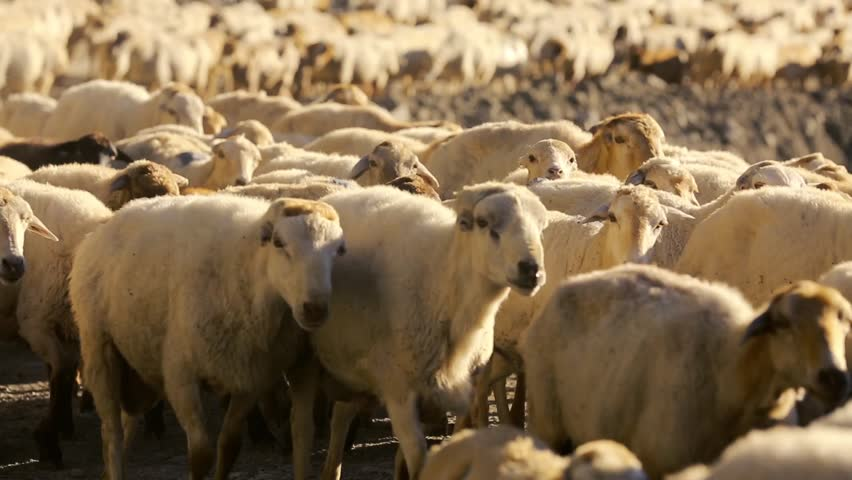sheep: (66, 191, 348, 480), (312, 178, 551, 480), (516, 263, 852, 473), (539, 184, 679, 347)
